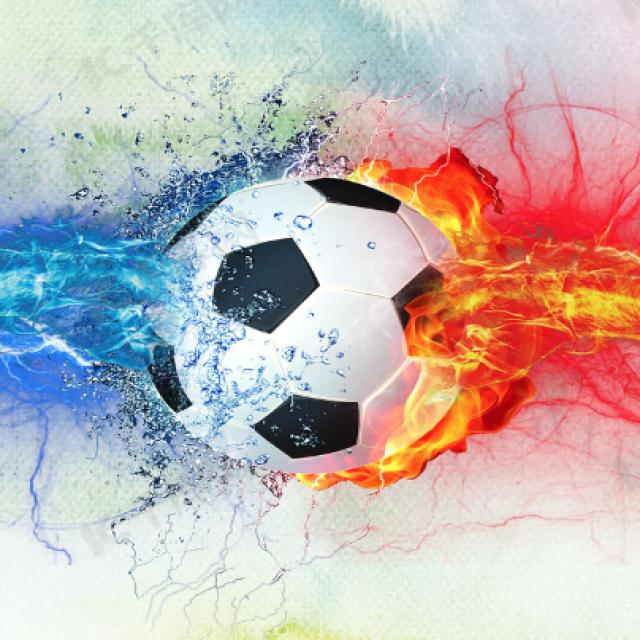football: (102, 139, 506, 511)
